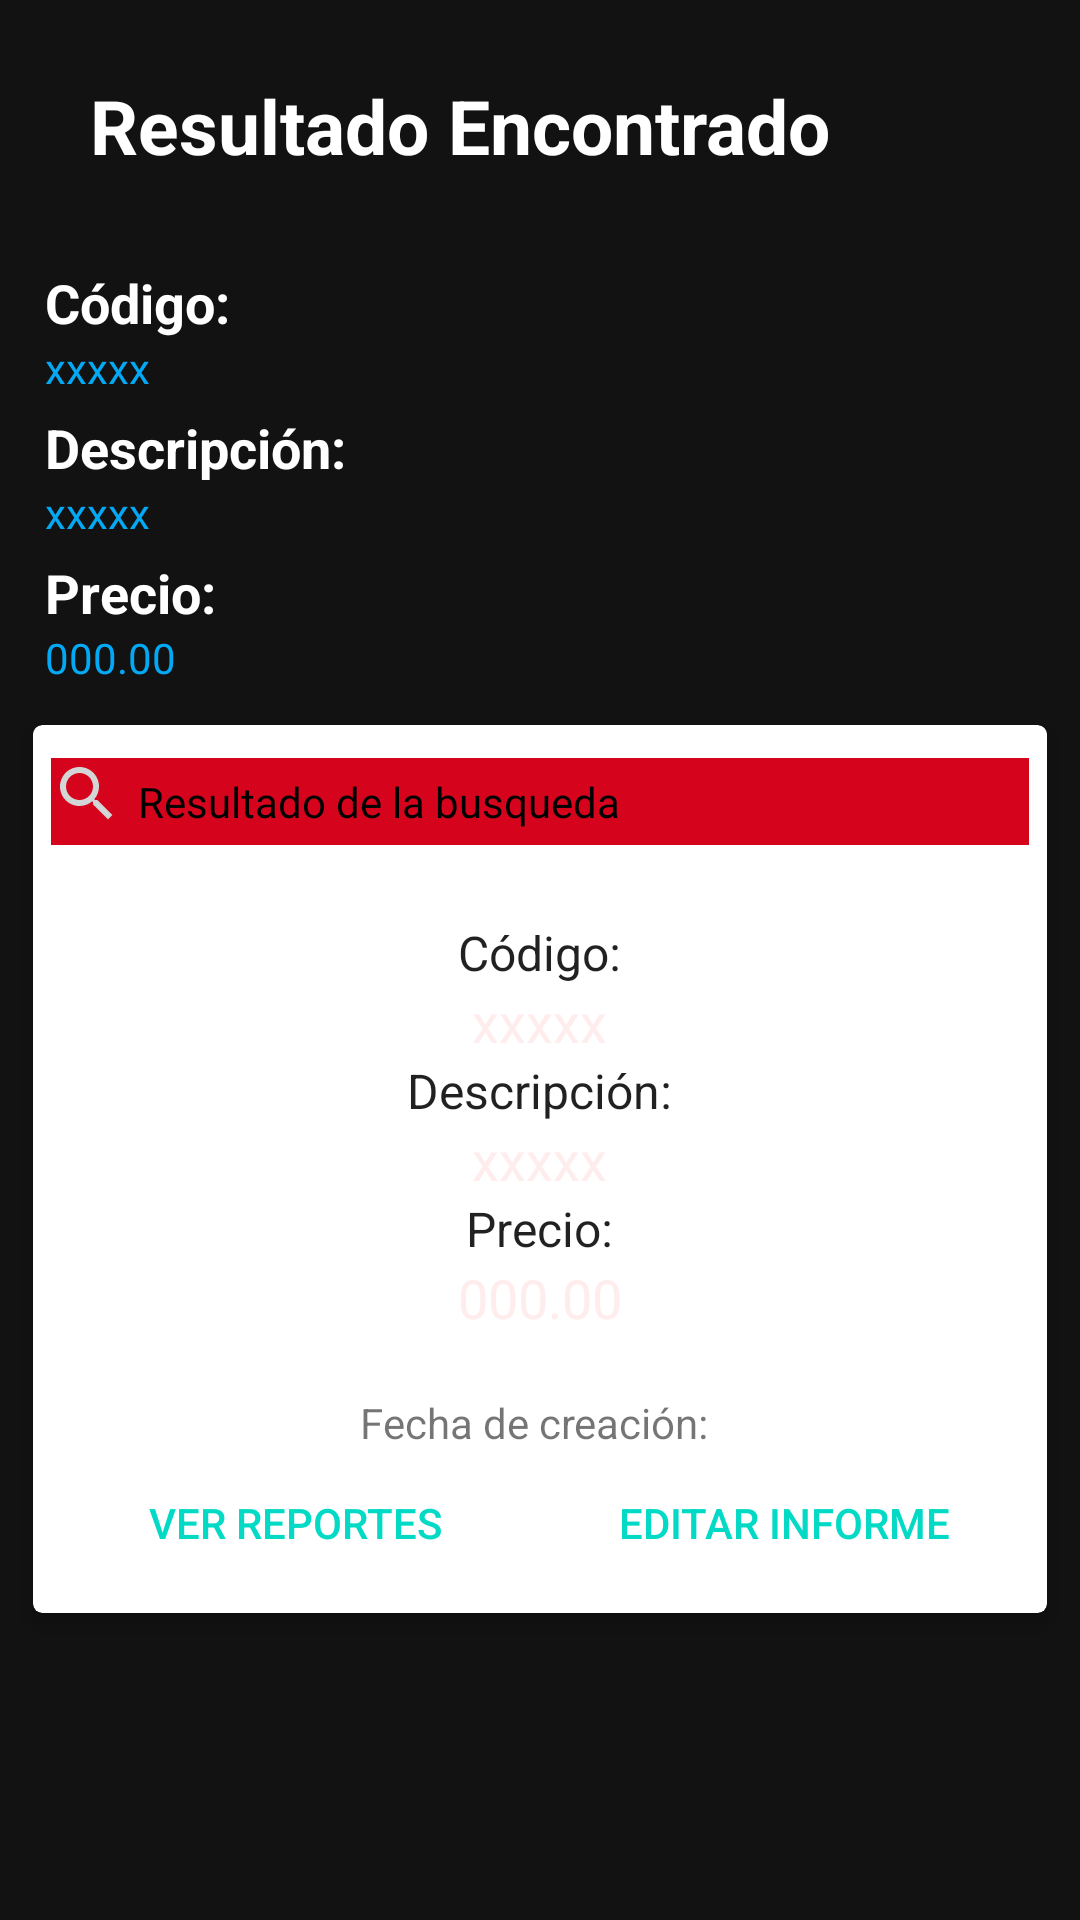

Where icons sit on this 1080 × 1920 app screen, as (x1, y1, x2, y2):
search: (60, 767, 112, 819)
